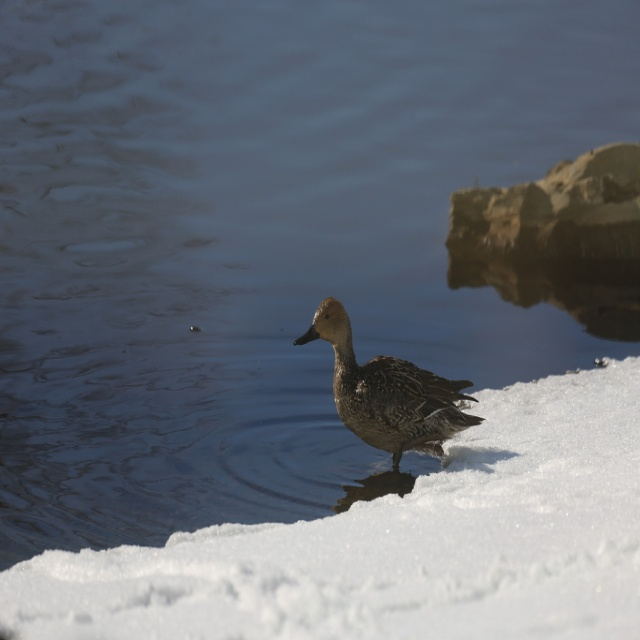Duck: (304, 294, 496, 483)
